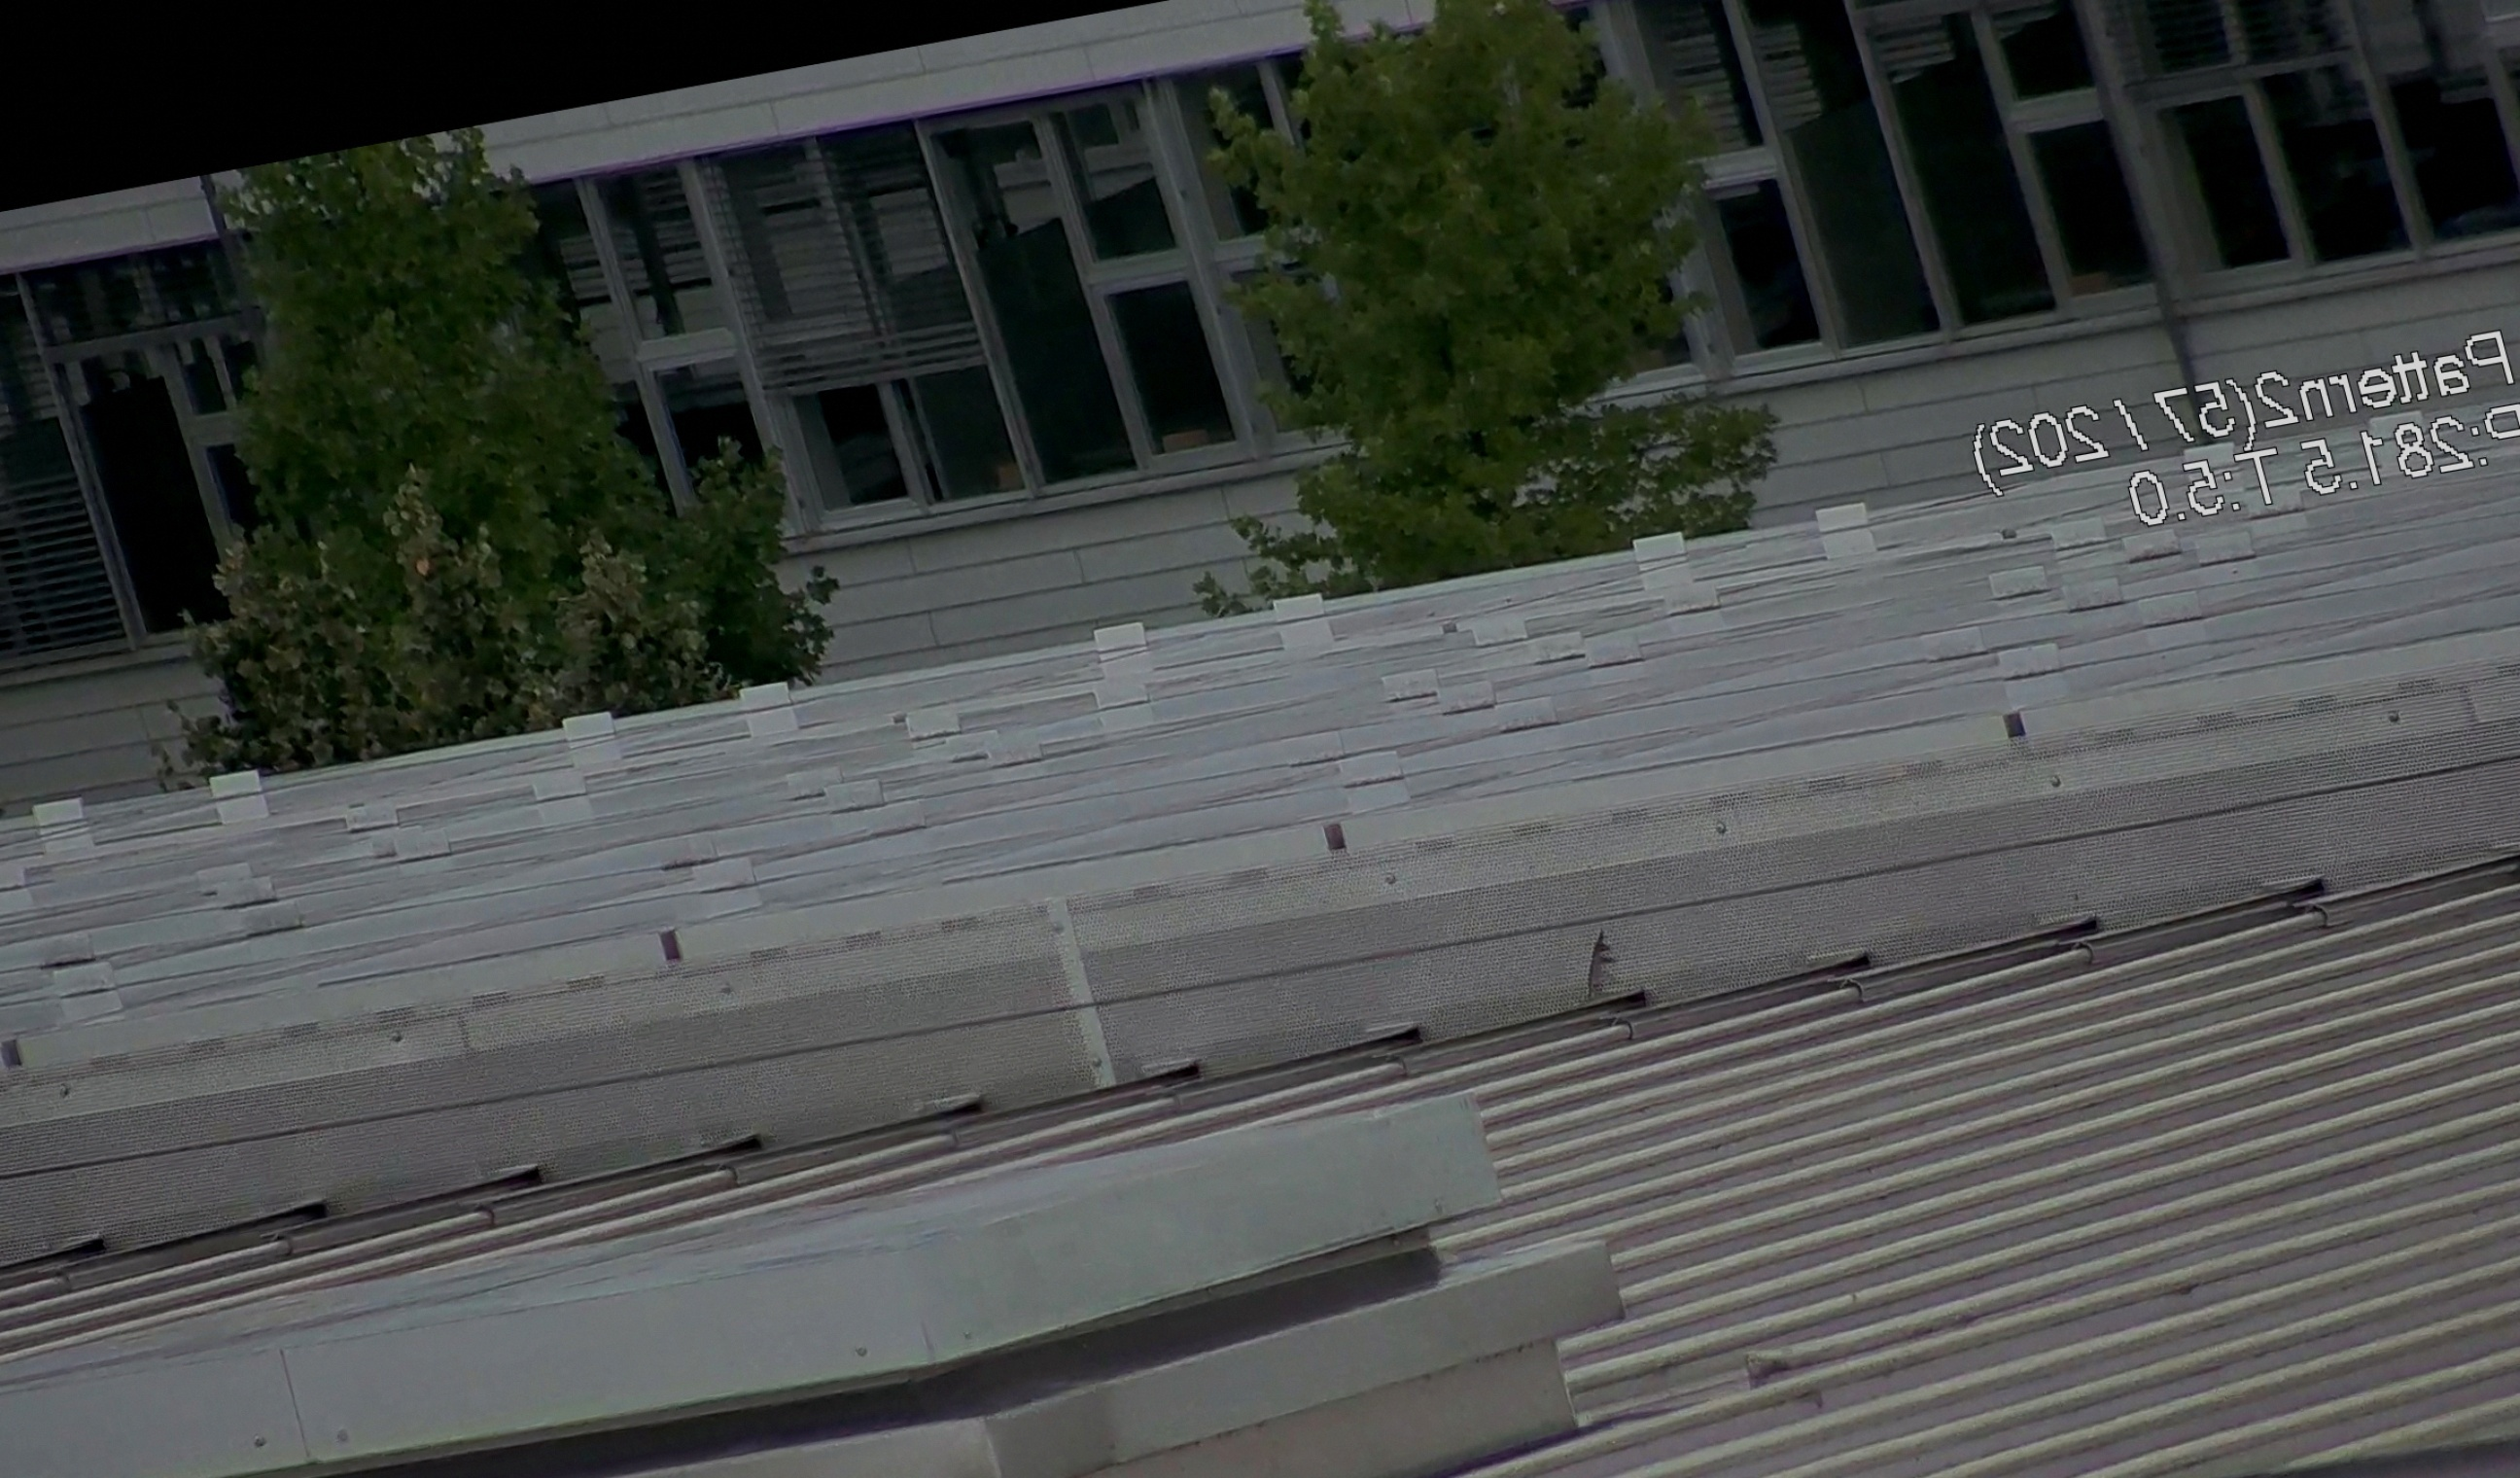Other: (1562, 903, 1657, 1033)
